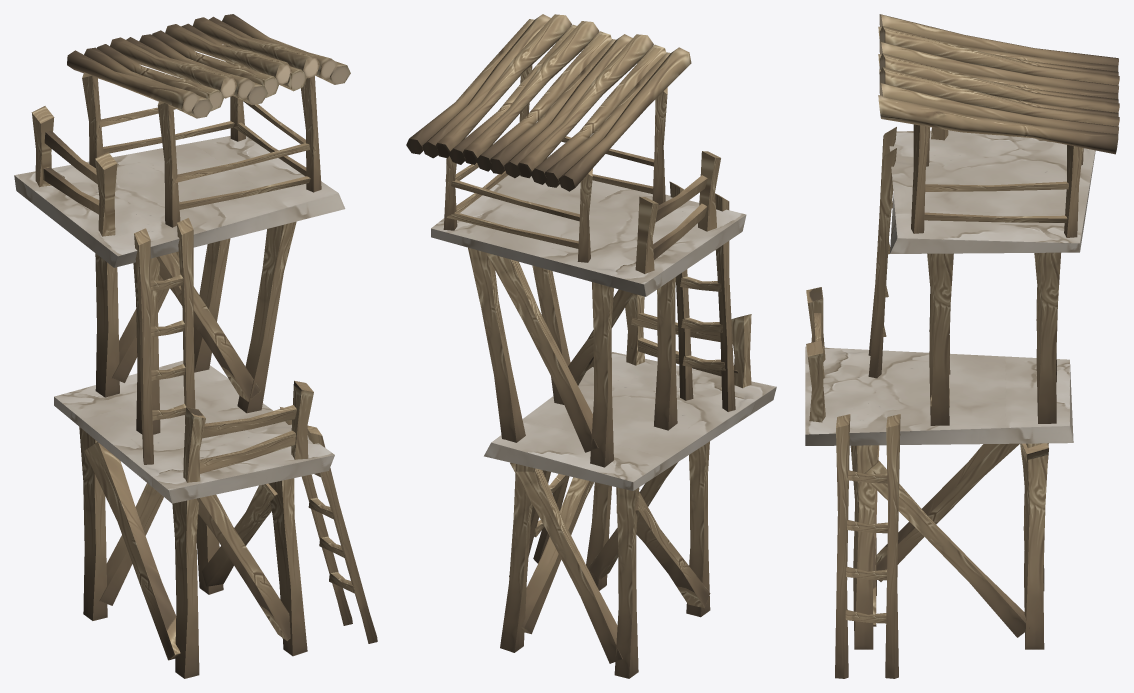
Rendered from Egypt_Village_Props_09.FBX.
The picture shows the model from 3 angles, left to right: view 1: azimuth 30°, elevation 25°; view 2: azimuth 150°, elevation 25°; view 3: azimuth 270°, elevation 25°; orthographic projection. The views are drawn at different scales.
Visible parts, largest first — view 1: Egypt_Village_Props_09; view 2: Egypt_Village_Props_09; view 3: Egypt_Village_Props_09.
Part boxes in pixels (left/top/right/bottom): Egypt_Village_Props_09: left=14, top=14, right=377, bottom=678; Egypt_Village_Props_09: left=406, top=14, right=776, bottom=678; Egypt_Village_Props_09: left=805, top=14, right=1119, bottom=678.
Size of the model in its own units: 442 by 1033 by 498.
